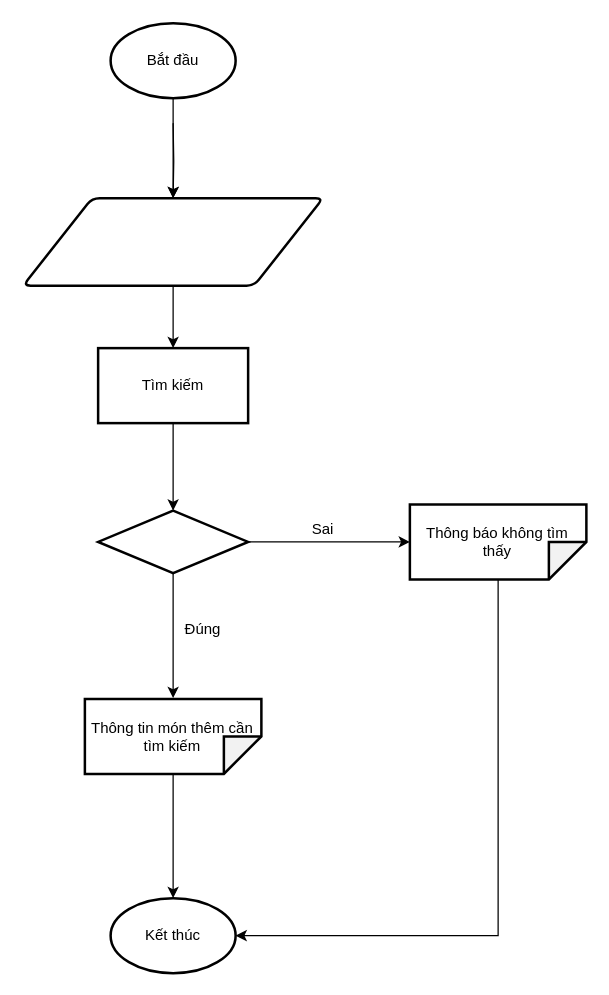
The diagram is 609 pixels wide and 995 high, and some of its shapes have lost their labels. Each missing label, with the centre of its shape:
"Thông tin món thêm cần tìm" belongs at point (172, 241).
"Tồn tại" belongs at point (172, 541).
